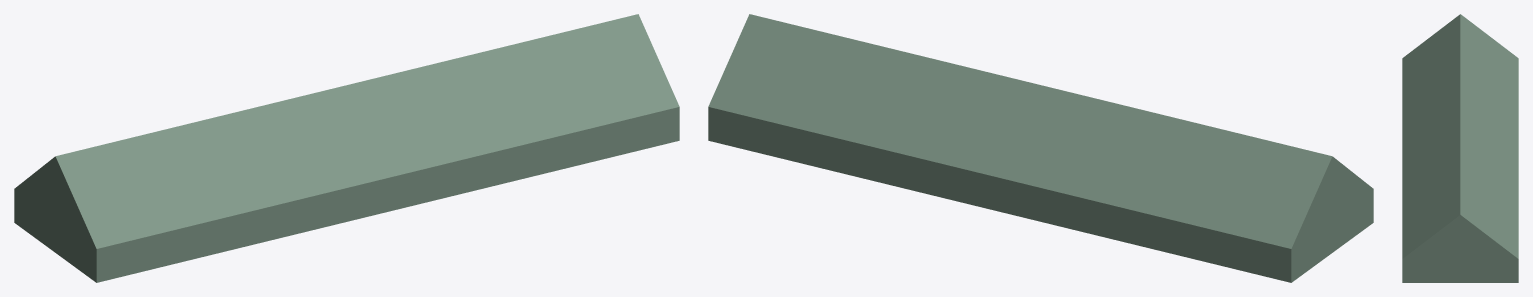
The model's file is cross_ridge_cap_back.glb.
The picture shows the model from 3 angles, left to right: view 1: azimuth 30°, elevation 25°; view 2: azimuth 150°, elevation 25°; view 3: azimuth 270°, elevation 25°; orthographic projection. The views are drawn at different scales.
Visible parts, largest first — view 1: cross_ridge_cap_back_ridge; view 2: cross_ridge_cap_back_ridge; view 3: cross_ridge_cap_back_ridge.
Boxes of the visible parts, x1,y1,x2,y2 form: cross_ridge_cap_back_ridge: (14, 14, 679, 282); cross_ridge_cap_back_ridge: (708, 14, 1373, 282); cross_ridge_cap_back_ridge: (1402, 14, 1518, 282).
Size of the model in its own units: 1.8 by 0.285 by 0.44.
